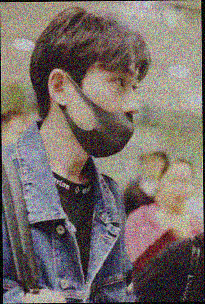mask_weared_incorrect: (65, 74, 140, 158)
